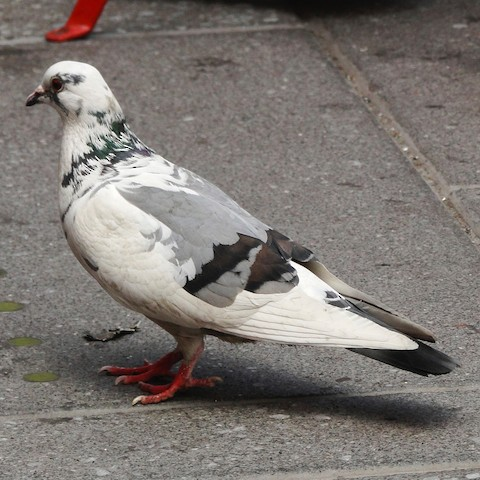pigeon: (14, 56, 463, 405)
